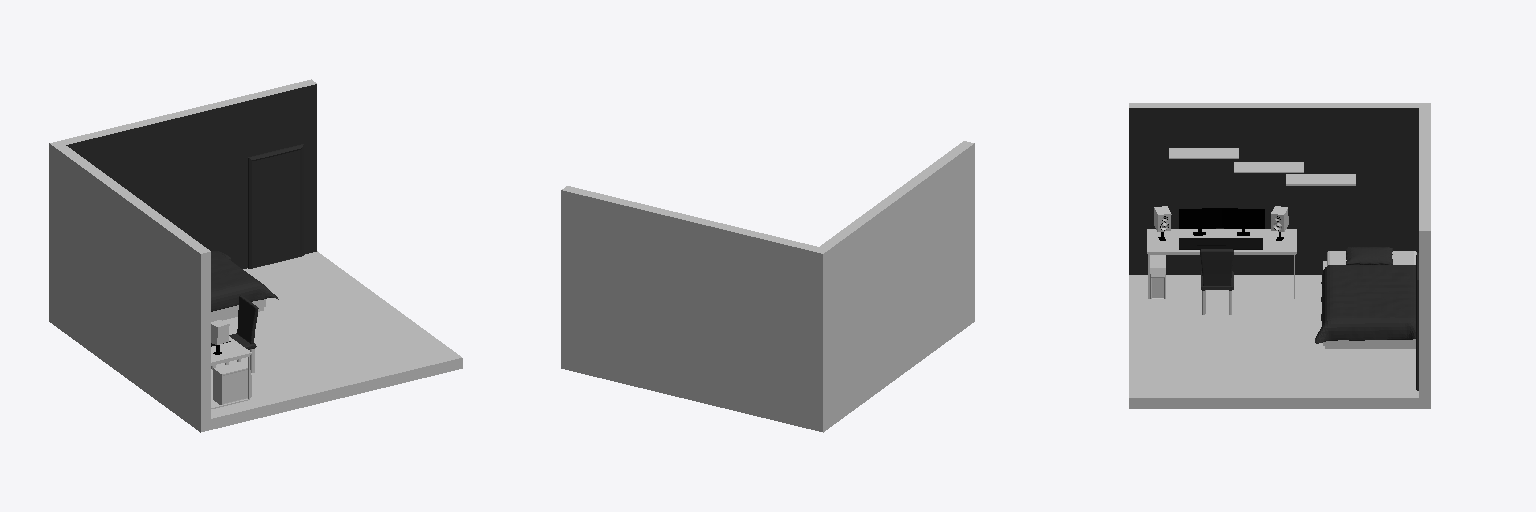
Rendered from FullLowPolyBedroom.obj.
3 views of the same model, side by side, from view 1: azimuth 30°, elevation 25°; view 2: azimuth 150°, elevation 25°; view 3: azimuth 270°, elevation 25° (orthographic).
Parts seen in each view (by area): view 1: Cube, Cube.005, Plane.001, Cube.006, Plane, Cube.004; view 2: Cube; view 3: Cube, Plane.001, Cube.004, Plane, Cube.007, Cube.009, Cube.014, Cube.003, Cube.001, Cube.008, Cube.015, Cube.013 (+2 smaller).
Boxes of the visible parts, x1,y1,x2,y2 form: Cube: [49, 79, 462, 432]; Cube.005: [248, 144, 303, 268]; Plane.001: [211, 251, 278, 311]; Cube.006: [213, 362, 251, 404]; Plane: [211, 295, 258, 372]; Cube.004: [211, 336, 251, 408]; Cube: [561, 141, 974, 432]; Cube: [1129, 103, 1430, 408]; Plane.001: [1315, 265, 1415, 343]; Cube.004: [1147, 229, 1296, 298]; Plane: [1200, 249, 1233, 314]; Cube.007: [1222, 208, 1264, 235]; Cube.009: [1179, 208, 1221, 235]; Cube.014: [1286, 174, 1355, 185]; Cube.003: [1346, 247, 1392, 264]; Cube.001: [1323, 261, 1415, 348]; Cube.008: [1179, 238, 1262, 249]; Cube.015: [1169, 148, 1238, 158]; Cube.013: [1234, 162, 1303, 172].
Size of the model in its own units: 8.66 by 5.64 by 8.66.